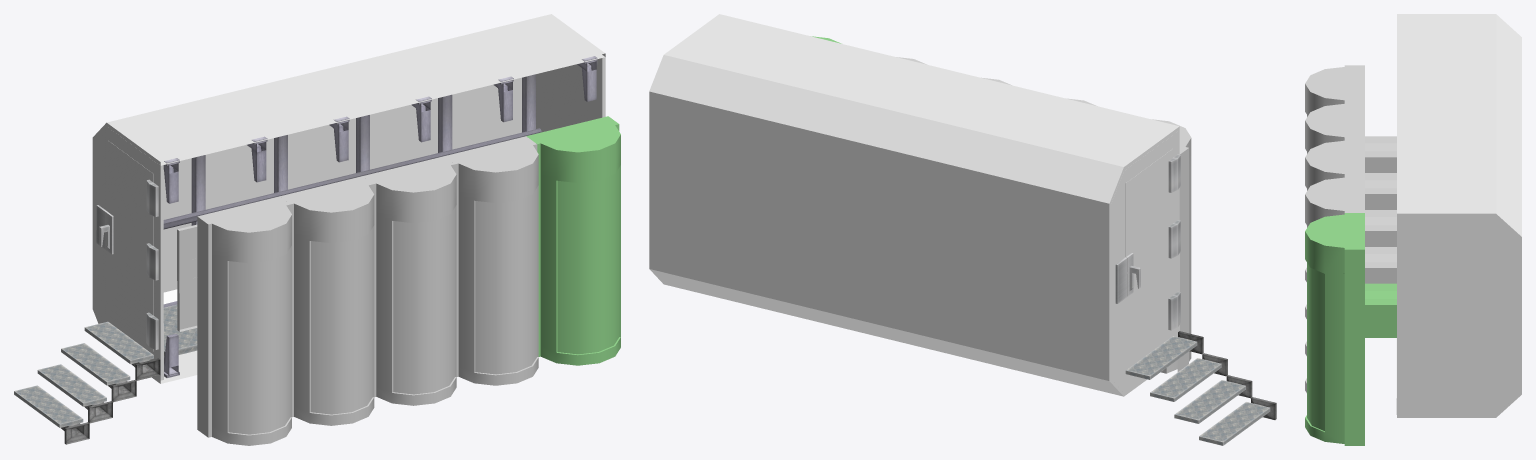
The model's file is Esc_capsulas_texturas_00.FBX.
3 views of the same model, side by side, from view 1: azimuth 30°, elevation 25°; view 2: azimuth 150°, elevation 25°; view 3: azimuth 270°, elevation 25° (orthographic). The views are drawn at different scales.
Parts seen in each view (by area): view 1: cristal_pasillo, Capsula004, Capsula003, Capsula002, Capsula001, Capsula, estructura_pasillo_00, elementos_pasillo; view 2: cristal_pasillo, elementos_pasillo, Capsula004; view 3: cristal_pasillo, Capsula, Capsula004, Capsula001, Capsula002, Capsula003.
Boxes of the visible parts, <box> form: cristal_pasillo: <box>92,14,605,383</box>; Capsula004: <box>177,196,291,445</box>; Capsula003: <box>280,176,374,425</box>; Capsula002: <box>362,156,456,405</box>; Capsula001: <box>444,136,538,385</box>; Capsula: <box>526,116,620,365</box>; estructura_pasillo_00: <box>163,56,597,377</box>; elementos_pasillo: <box>14,179,197,444</box>; cristal_pasillo: <box>649,14,1179,396</box>; elementos_pasillo: <box>1115,154,1276,445</box>; Capsula004: <box>1152,119,1191,373</box>; cristal_pasillo: <box>1396,14,1521,417</box>; Capsula: <box>1305,213,1396,445</box>; Capsula004: <box>1305,65,1396,281</box>; Capsula001: <box>1305,176,1396,392</box>; Capsula002: <box>1305,139,1396,355</box>; Capsula003: <box>1305,102,1396,318</box>.
Bounding box in the file's own units: 8.42 × 3.88 × 3.19.
